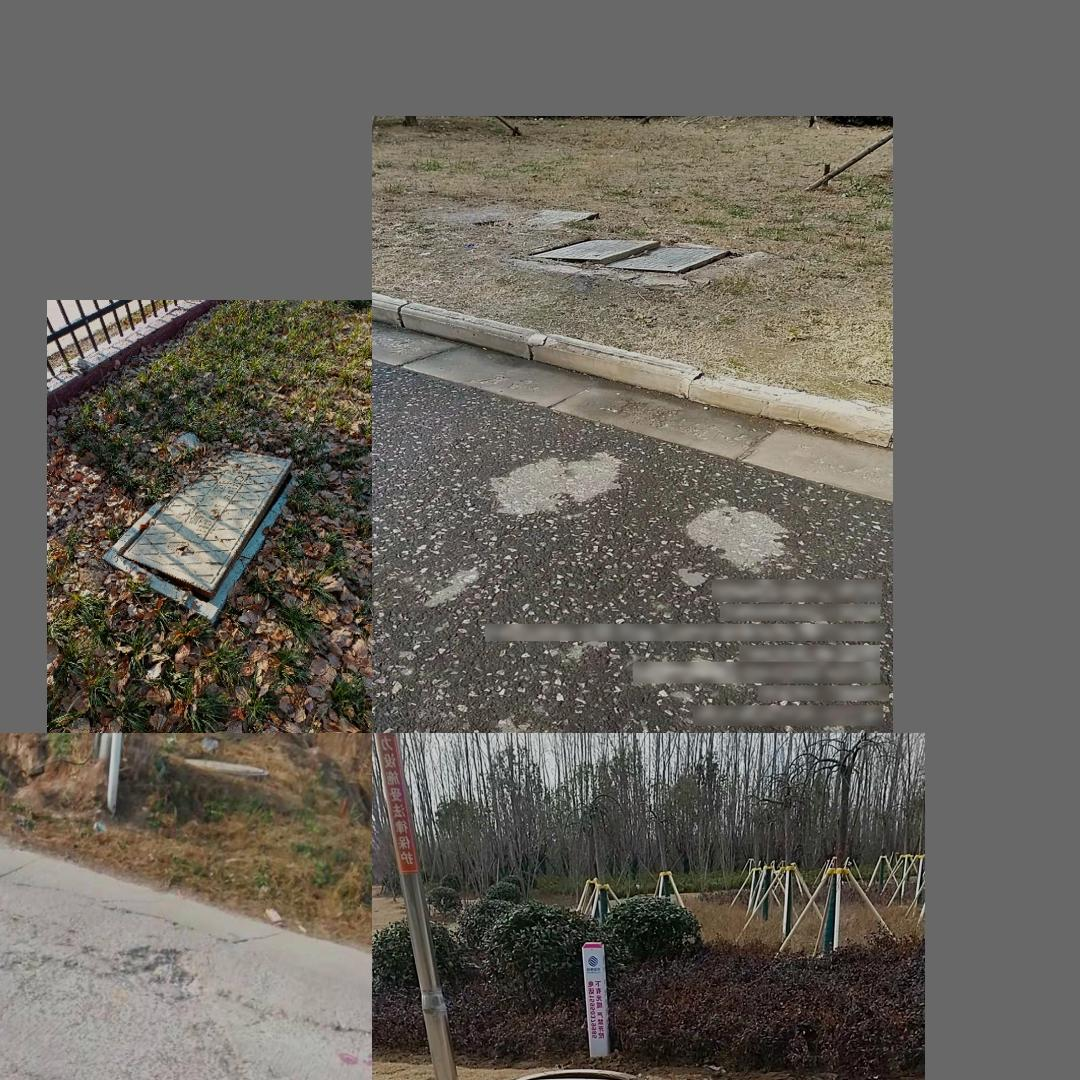uncovered: (106, 445, 299, 598), (527, 237, 731, 277), (491, 1062, 645, 1080)
